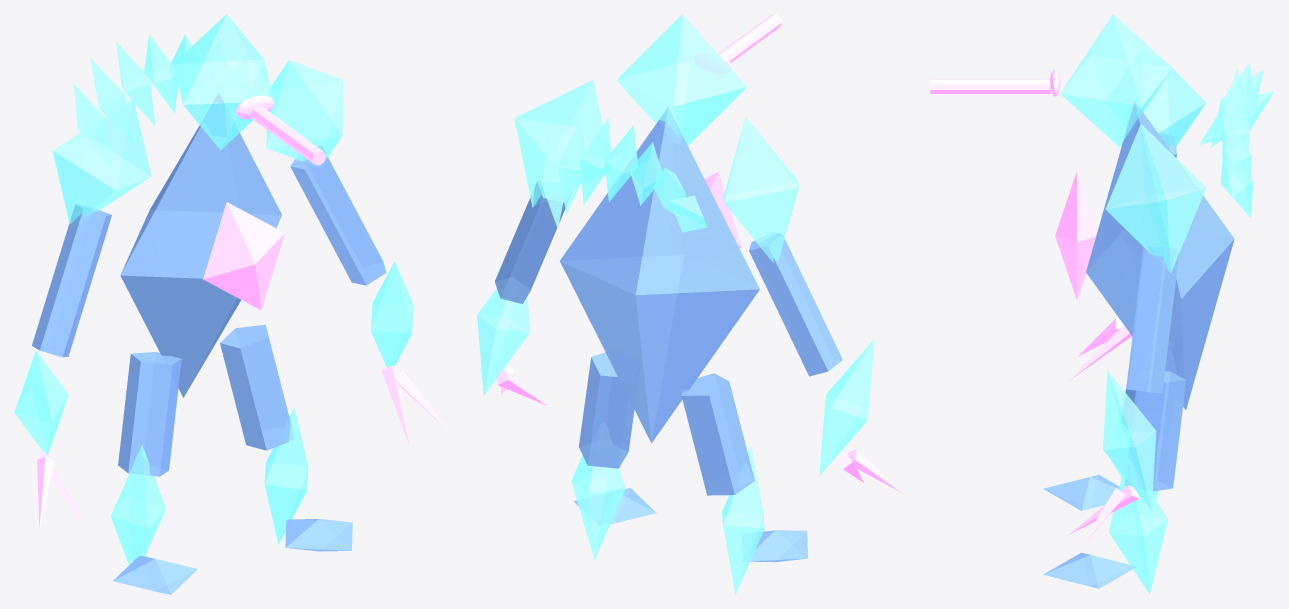
The model's file is 03b_nexus_warden_evolved.glb.
3 renders of one model, left to right at view 1: azimuth 30°, elevation 25°; view 2: azimuth 150°, elevation 25°; view 3: azimuth 270°, elevation 25°, orthographic. The views are drawn at different scales.
Visible parts, largest first — view 1: warden_crystal_torso, warden_head, warden_shoulder_guard_-1, warden_upper_leg_-1, warden_upper_leg_1, warden_upper_arm_-1, warden_core, warden_shoulder_guard_1, warden_upper_arm_1, warden_lower_leg_shard_-1, warden_lower_leg_shard_1, warden_forearm_prism_-1 (+11 smaller); view 2: warden_crystal_torso, warden_head, warden_shoulder_guard_-1, warden_upper_leg_-1, warden_upper_arm_-1, warden_shoulder_guard_1, warden_upper_leg_1, warden_upper_arm_1, warden_forearm_prism_-1, warden_forearm_prism_1, warden_lower_leg_shard_-1, warden_lower_leg_shard_1 (+13 smaller); view 3: warden_crystal_torso, warden_shoulder_guard_1, warden_head, warden_upper_arm_1, warden_forearm_prism_1, warden_lower_leg_shard_1, warden_upper_leg_1, warden_core, warden_shoulder_guard_-1, warden_foot_shard_1, warden_long_range_beam_core, warden_foot_shard_-1 (+11 smaller).
Boxes of the visible parts, box(x1,y1,x2,y2) form: warden_crystal_torso: box(120, 93, 281, 397); warden_head: box(173, 14, 273, 150); warden_shoulder_guard_-1: box(52, 98, 151, 228); warden_upper_leg_-1: box(118, 352, 181, 476); warden_upper_leg_1: box(220, 324, 294, 450); warden_upper_arm_-1: box(32, 204, 111, 357); warden_core: box(203, 202, 284, 309); warden_shoulder_guard_1: box(266, 60, 343, 166); warden_upper_arm_1: box(290, 146, 386, 285); warden_lower_leg_shard_-1: box(110, 445, 165, 564); warden_lower_leg_shard_1: box(264, 408, 308, 544); warden_forearm_prism_-1: box(14, 350, 68, 454); warden_crystal_torso: box(560, 107, 759, 442); warden_head: box(616, 14, 746, 145); warden_shoulder_guard_-1: box(723, 117, 798, 265); warden_upper_leg_-1: box(681, 373, 754, 495); warden_upper_arm_-1: box(749, 233, 842, 376); warden_shoulder_guard_1: box(514, 79, 602, 207); warden_upper_leg_1: box(579, 352, 634, 468); warden_upper_arm_1: box(494, 180, 565, 303); warden_forearm_prism_-1: box(819, 339, 874, 475); warden_forearm_prism_1: box(477, 288, 530, 395); warden_lower_leg_shard_-1: box(722, 446, 764, 594); warden_lower_leg_shard_1: box(571, 425, 625, 559); warden_crystal_torso: box(1086, 101, 1234, 409); warden_shoulder_guard_1: box(1105, 124, 1206, 273); warden_head: box(1060, 14, 1172, 147); warden_upper_arm_1: box(1126, 245, 1179, 393); warden_forearm_prism_1: box(1103, 370, 1156, 510); warden_lower_leg_shard_1: box(1108, 474, 1167, 594); warden_upper_leg_1: box(1125, 371, 1186, 491); warden_core: box(1055, 171, 1097, 300); warden_shoulder_guard_-1: box(1143, 68, 1206, 151); warden_foot_shard_1: box(1043, 552, 1136, 588); warden_long_range_beam_core: box(930, 79, 1050, 93); warden_foot_shard_-1: box(1043, 474, 1119, 510).
Bounding box in the file's own units: 2.1 × 2.76 × 1.57.
